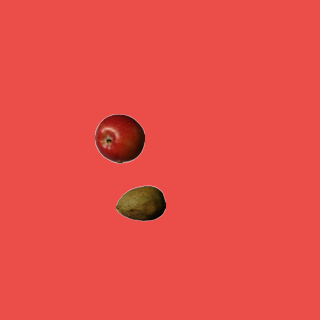Apple Braeburn: (94, 113, 144, 163)
Papaya: (115, 178, 165, 228)
